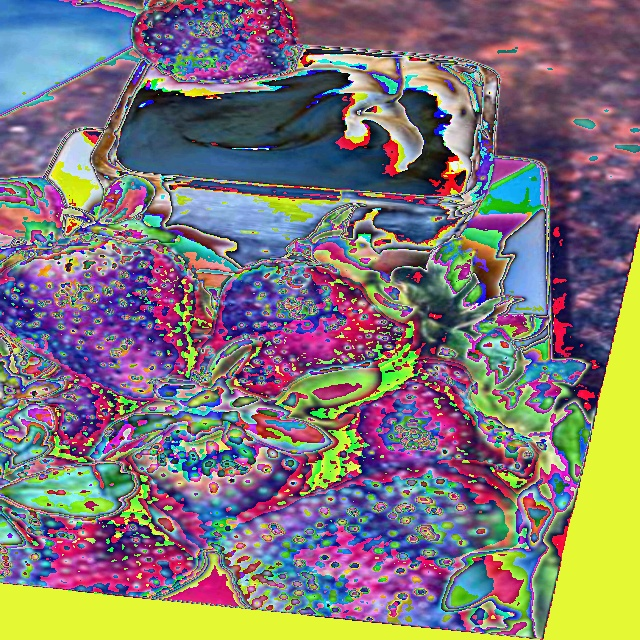background: (0, 0, 597, 639), (25, 0, 101, 5)
